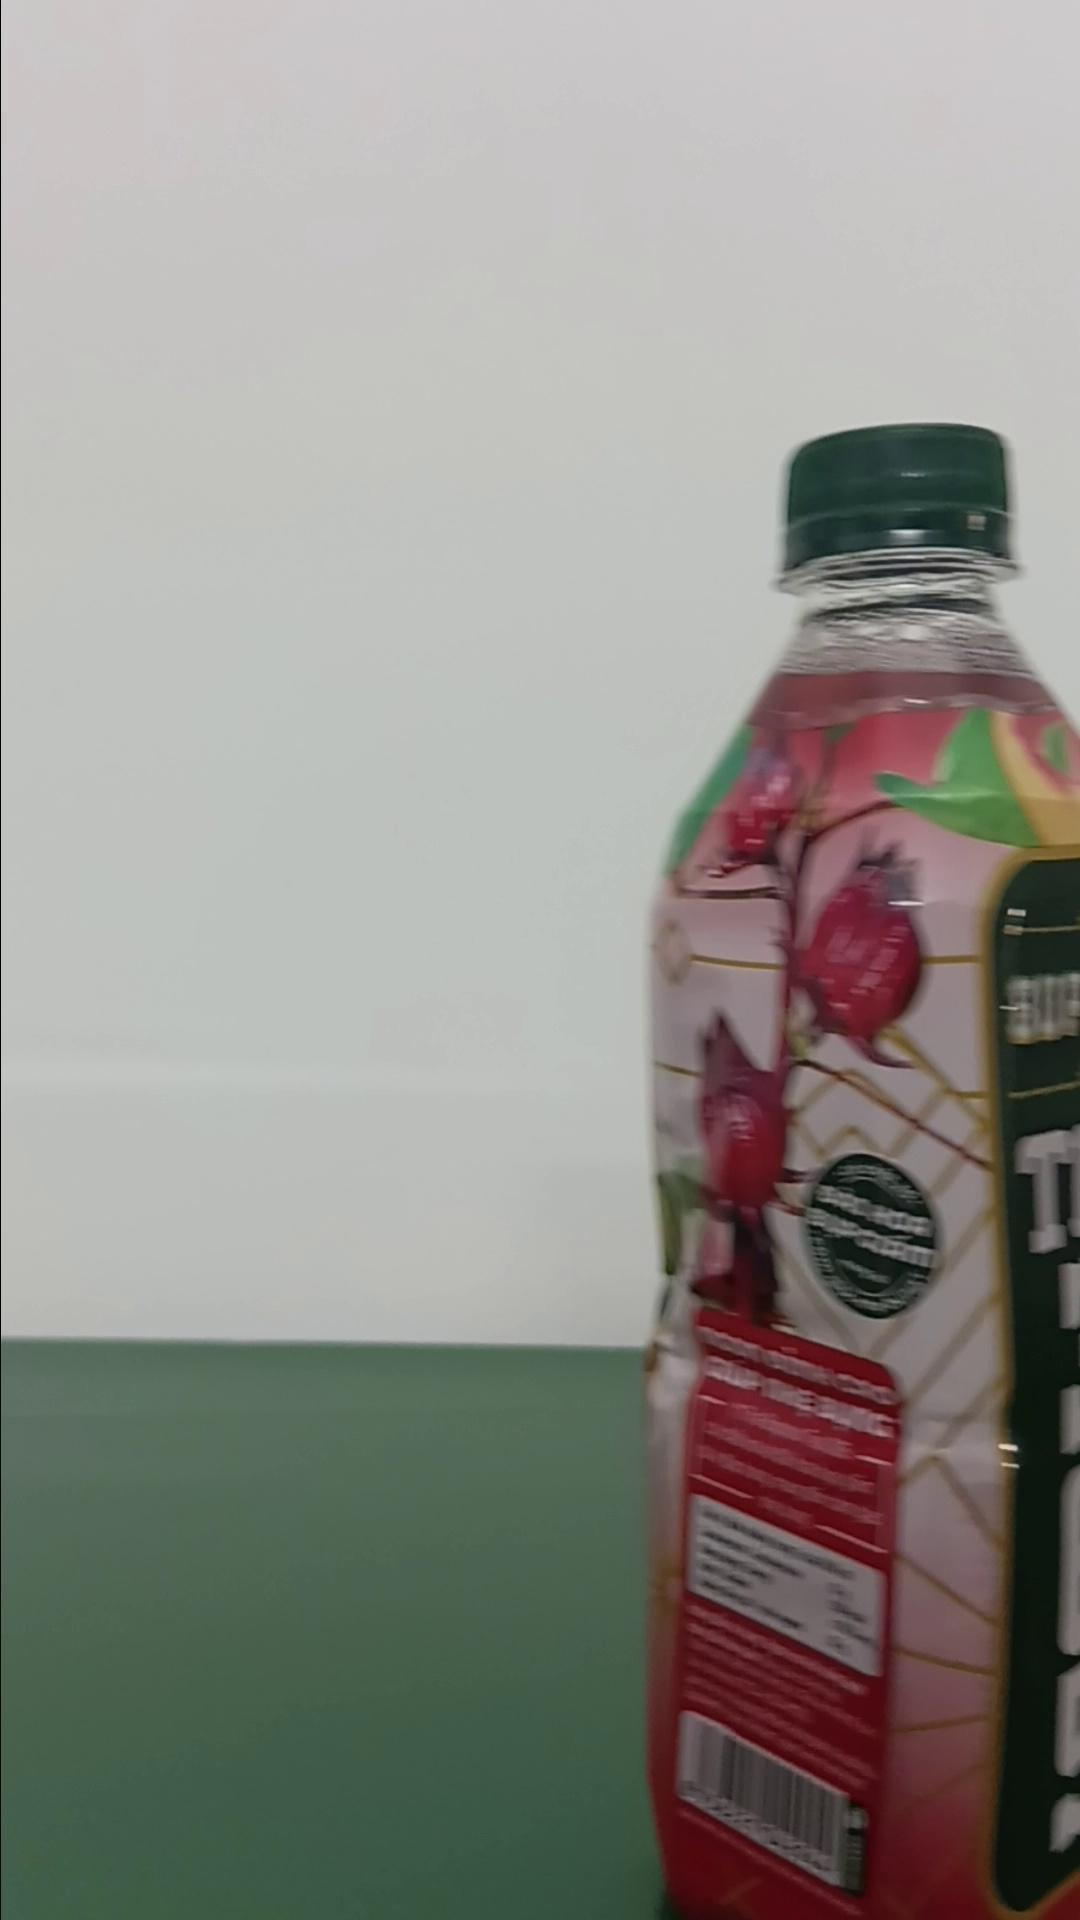loi meo sp: (636, 419, 1077, 1913)
